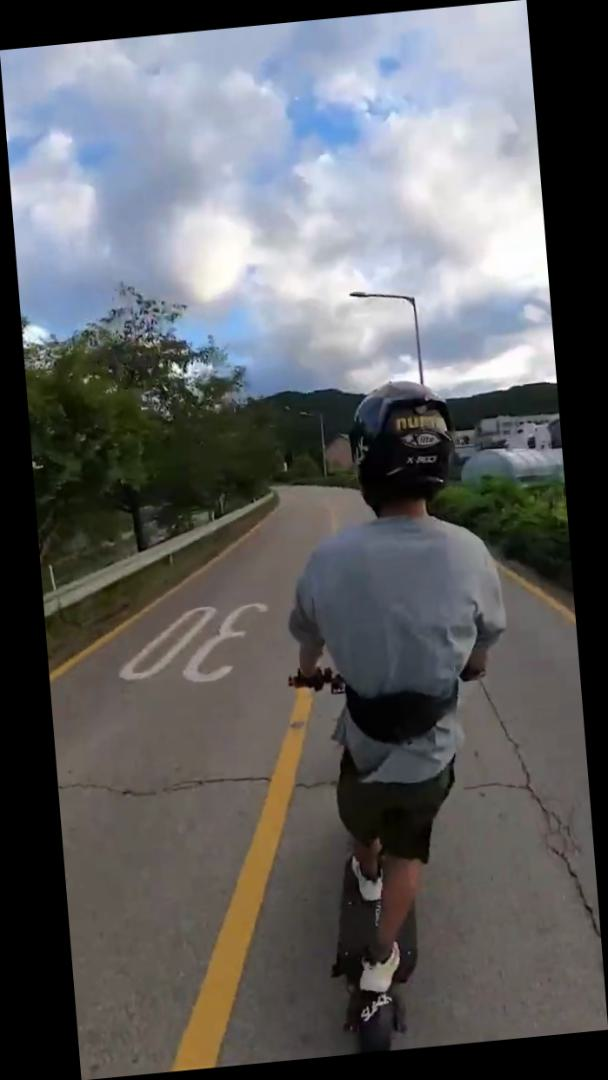helmet: (257, 371, 542, 1058)
